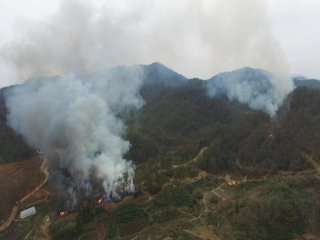smoke: (5, 6, 146, 204), (201, 3, 297, 119)
